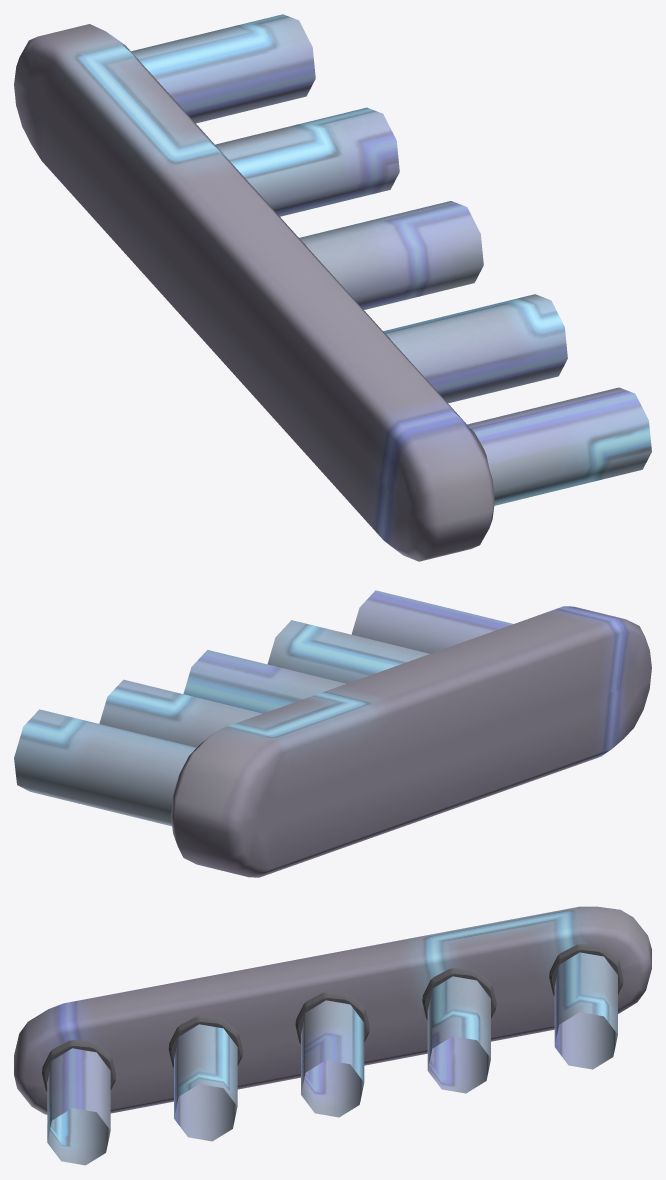
Rendered from Space_CloudLeft.fbx.
3 views of the same model, one above another, from view 1: azimuth 30°, elevation 25°; view 2: azimuth 150°, elevation 25°; view 3: azimuth 270°, elevation 25° (orthographic). The views are drawn at different scales.
Parts seen in each view (by area): view 1: polySurface253; view 2: polySurface253; view 3: polySurface253.
Boxes of the visible parts, bbox=[...] form: polySurface253: bbox=[14, 14, 651, 561]; polySurface253: bbox=[14, 590, 651, 877]; polySurface253: bbox=[14, 906, 651, 1165].
Bounding box in the file's own units: 100 × 100 × 300.
